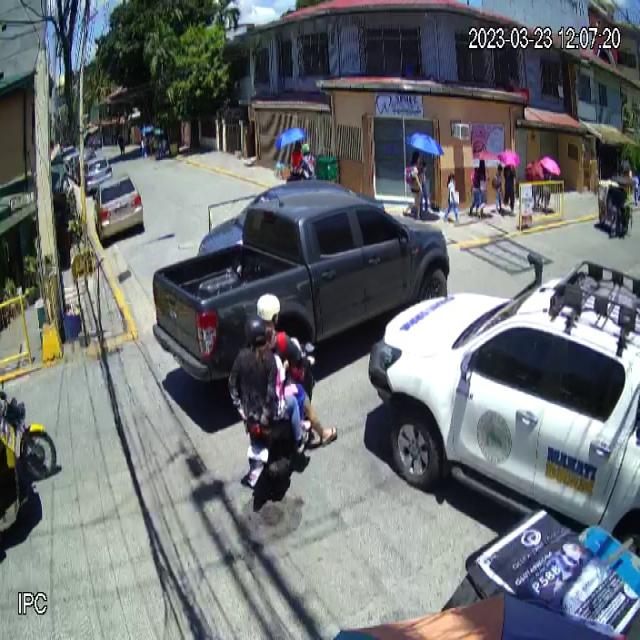Car: (151, 177, 449, 390)
